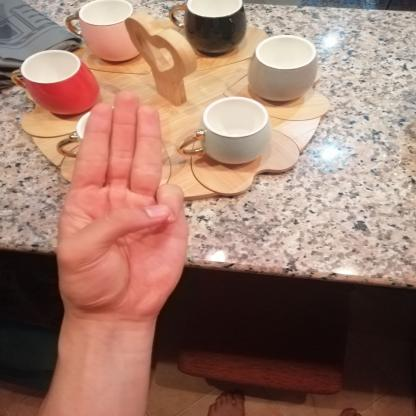THA: (40, 81, 199, 325)
